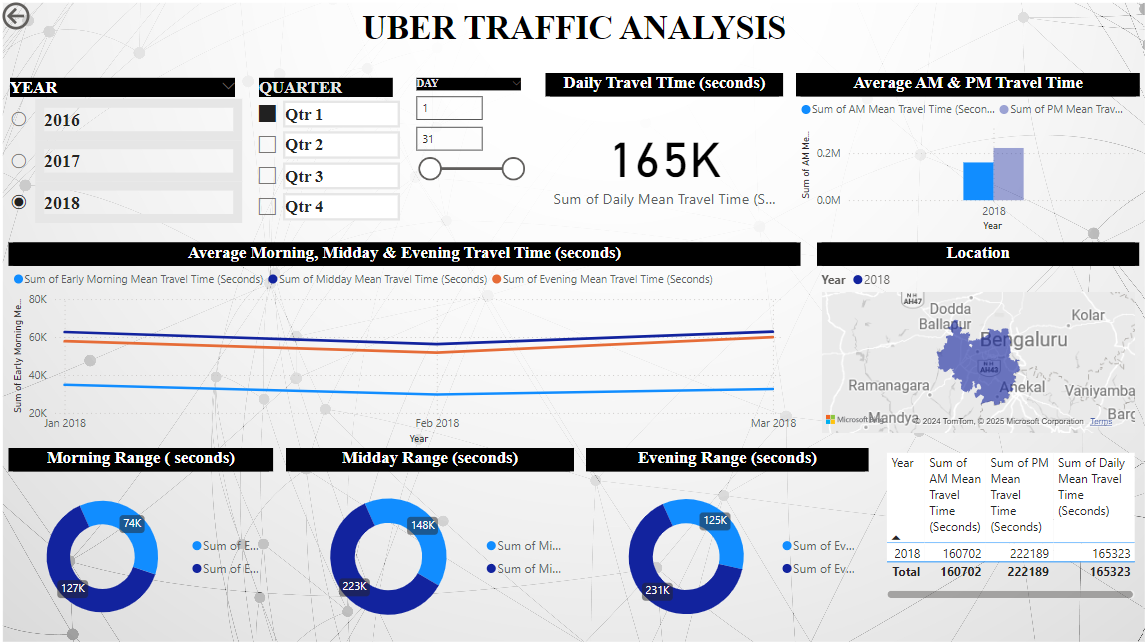

Layout of this report page (visuals, bound fields, positions):
{"tool":"powerbi","page":{"name":"Page 1","canvas":[1280,720],"ordinal":0},"visuals":[{"type":"image","box":[0,0,1280,720],"z":500},{"type":"textbox","box":[0,6.7,1280,63.3],"z":1000},{"type":"lineClusteredColumnComboChart","title":"Average AM & PM Travel Time","fields":{"Category":["Sheet1.Date.Variation.Date Hierarchy.Year"],"Y":["Sum(Sheet1.AM Mean Travel Time (Seconds))","Sum(Sheet1.PM Mean Travel Time (Seconds))"]},"box":[886,84,382,180],"z":2000},{"type":"actionButton","box":[0,0,100,40],"z":3000},{"type":"slicer","fields":{"Values":["Sheet1.Date.Variation.Date Hierarchy.Year"]},"box":[0,84,276,188],"z":4000},{"type":"lineChart","title":"Average Morning, Midday & Evening Travel Time (seconds)","fields":{"Category":["Sheet1.Date.Variation.Date Hierarchy.Year","Sheet1.Date.Variation.Date Hierarchy.Month"],"Y":["Sum(Sheet1.Early Morning Mean Travel Time (Seconds))","Sum(Sheet1.Midday Mean Travel Time (Seconds))","Sum(Sheet1.Evening Mean Travel Time (Seconds))"]},"box":[12,272,880,228],"z":5000},{"type":"filledMap","title":"Location","fields":{"Category":["Sheet1.Origin Display Name"],"Series":["Sheet1.Date.Variation.Date Hierarchy.Year"]},"box":[910,272,358,216],"z":6000},{"type":"tableEx","fields":{"Values":["Sheet1.Date.Variation.Date Hierarchy.Year","Sum(Sheet1.AM Mean Travel Time (Seconds))","Sum(Sheet1.PM Mean Travel Time (Seconds))","Sum(Sheet1.Daily Mean Travel Time (Seconds))"]},"box":[982,500,286,172],"z":7000},{"type":"donutChart","title":"Morning Range ( seconds)","fields":{"Y":["Sum(Sheet1.Early Morning Range - Lower Bound Travel Time (Seconds))","Sum(Sheet1.Early Morning Range - Upper Bound Travel Time (Seconds))"]},"box":[12,500,294,220],"z":8000},{"type":"donutChart","title":"Midday Range (seconds) ","fields":{"Y":["Sum(Sheet1.Midday Range - Lower Bound Travel Time (Seconds))","Sum(Sheet1.Midday Range - Upper Bound Travel Time (Seconds))"]},"box":[320,500,320,220],"z":9000},{"type":"donutChart","title":"Evening Range (seconds)","fields":{"Y":["Sum(Sheet1.Evening Range - Lower Bound Travel Time (Seconds))","Sum(Sheet1.Evening Range - Upper Bound Travel Time (Seconds))"]},"box":[654,500,314,220],"z":10000},{"type":"card","title":"Daily Travel TIme (seconds)","fields":{"Values":["Sum(Sheet1.Daily Mean Travel Time (Seconds))"]},"box":[608,84,264,180],"z":11000},{"type":"slicer","fields":{"Values":["Sheet1.Date.Variation.Date Hierarchy.Quarter"]},"box":[276.7,83.3,175,180],"z":12000},{"type":"slicer","fields":{"Values":["Sheet1.Date.Variation.Date Hierarchy.Day"]},"box":[452,84,142,180],"z":13000}]}

Visuals, with their boxes in screenshot pixels (x1, y1, x2, y2), scaled from the page's 1280x720 canvas onto the 1147x643 screenshot:
image: bbox(0, 0, 1146, 642)
textbox: bbox(0, 6, 1146, 63)
"Average AM & PM Travel Time" lineClusteredColumnComboChart: bbox(794, 75, 1136, 236)
actionButton: bbox(0, 0, 90, 36)
slicer - Sheet1.Date.Variation.Date Hierarchy.Year: bbox(0, 75, 247, 243)
"Average Morning, Midday & Evening Travel Time (seconds)" lineChart: bbox(11, 243, 799, 447)
"Location" filledMap: bbox(815, 243, 1136, 436)
tableEx - Sheet1.Date.Variation.Date Hierarchy.Year x Sum(Sheet1.AM Mean Travel Time (Seconds)): bbox(880, 447, 1136, 600)
"Morning Range ( seconds)" donutChart: bbox(11, 447, 274, 642)
"Midday Range (seconds) " donutChart: bbox(287, 447, 574, 642)
"Evening Range (seconds)" donutChart: bbox(586, 447, 867, 642)
"Daily Travel TIme (seconds)" card: bbox(545, 75, 781, 236)
slicer - Sheet1.Date.Variation.Date Hierarchy.Quarter: bbox(248, 74, 405, 235)
slicer - Sheet1.Date.Variation.Date Hierarchy.Day: bbox(405, 75, 532, 236)
